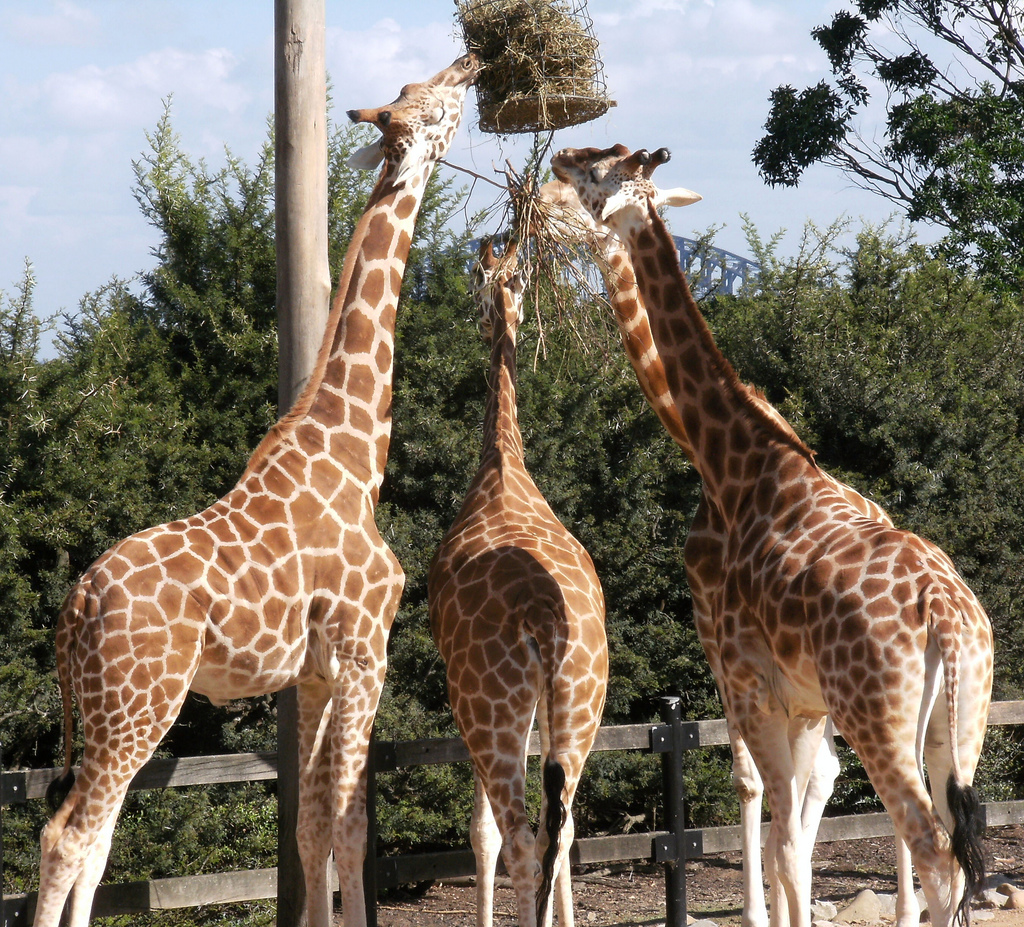giraffe: (59, 45, 490, 875), (561, 128, 1001, 906), (431, 222, 631, 904)
